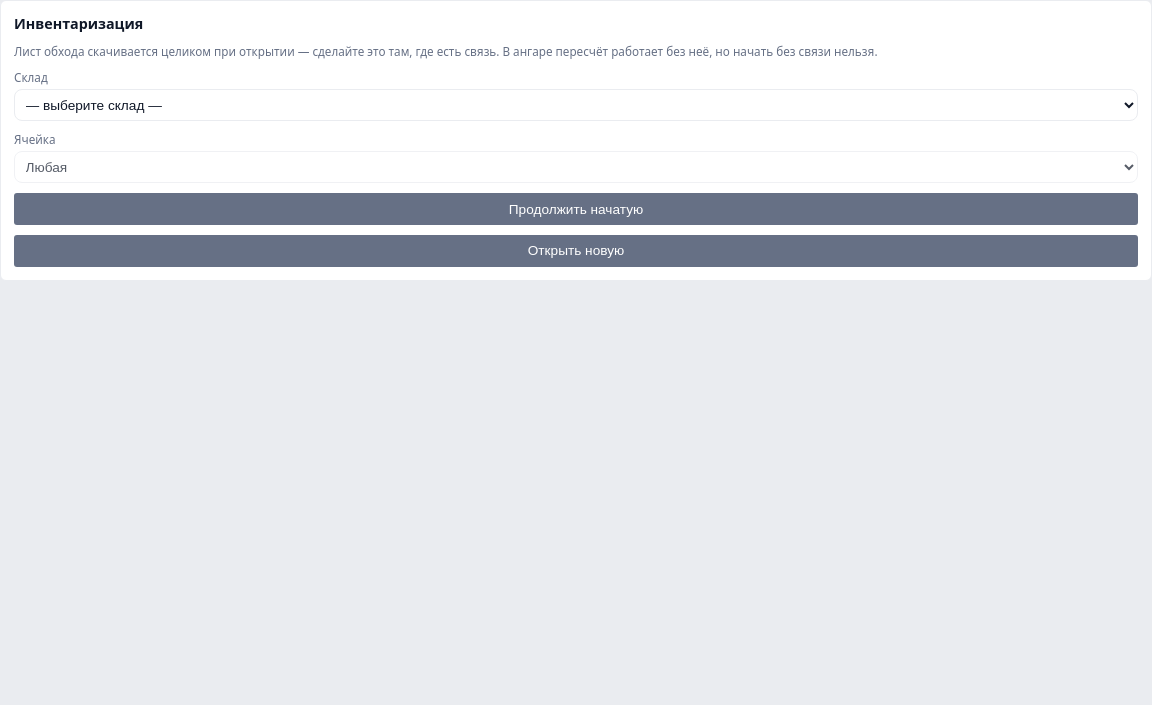
Test case: комментарий ходившего на экране обхода › поле стоит в конце обхода и показывает уже написанное ходившим
Select "Ткацкая" in the dropdown labelled "Склад": [576, 105] box top-left (14, 89), bottom-right (1138, 121)
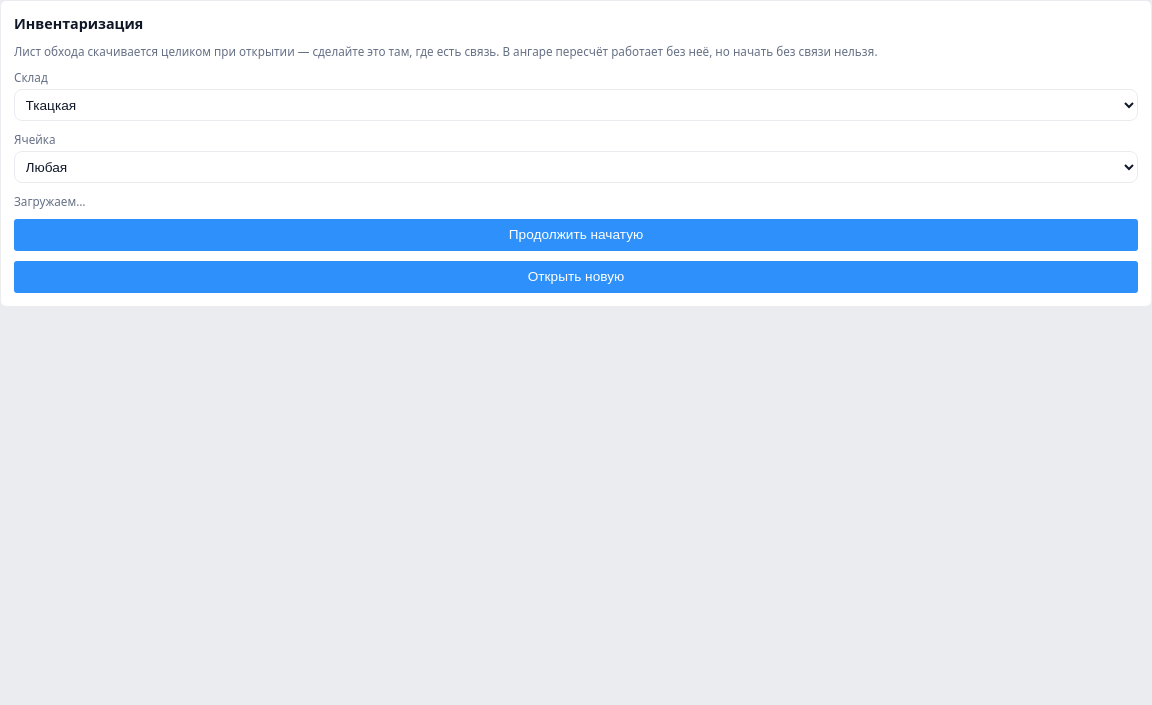
Click the button "Открыть новую": [576, 277] box top-left (14, 261), bottom-right (1138, 293)
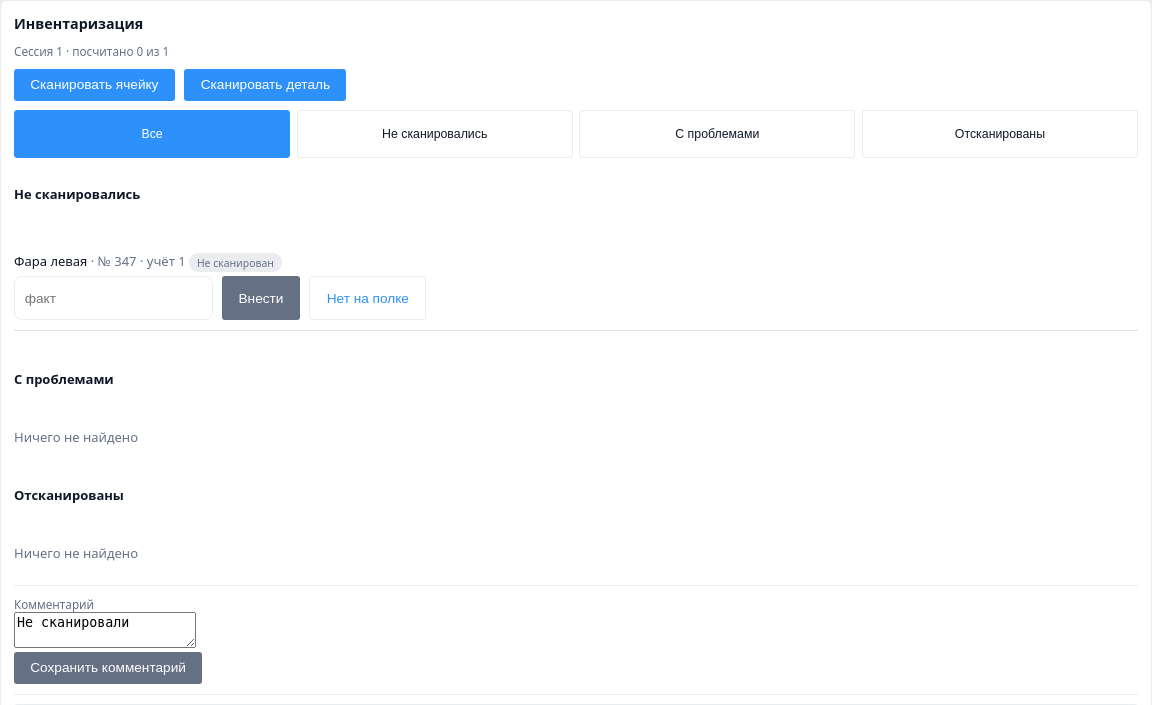
Expected: the text "Фара левая" is shown, top-left (14, 252), bottom-right (87, 270)
Expected: the text box labelled "Комментарий" holds "Не сканировали", top-left (14, 612), bottom-right (196, 648)
Expected: the number of text boxes labelled "Комментарий" is 1, top-left (14, 612), bottom-right (196, 648)
